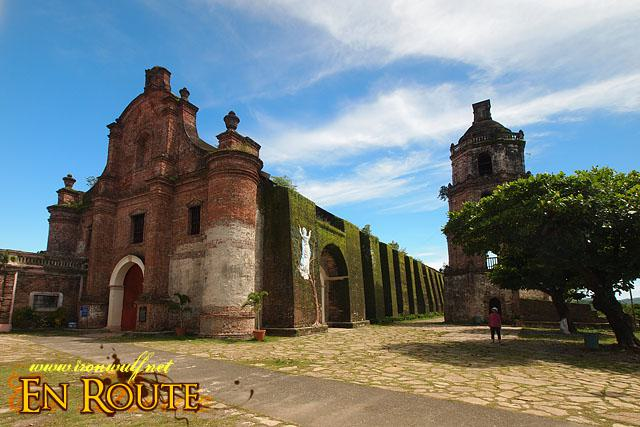Environmental Damage: (61, 197, 92, 216), (270, 171, 297, 191)
Sta. Maria Church: (43, 59, 259, 339)
Unfinished Paint: (168, 218, 258, 303)
